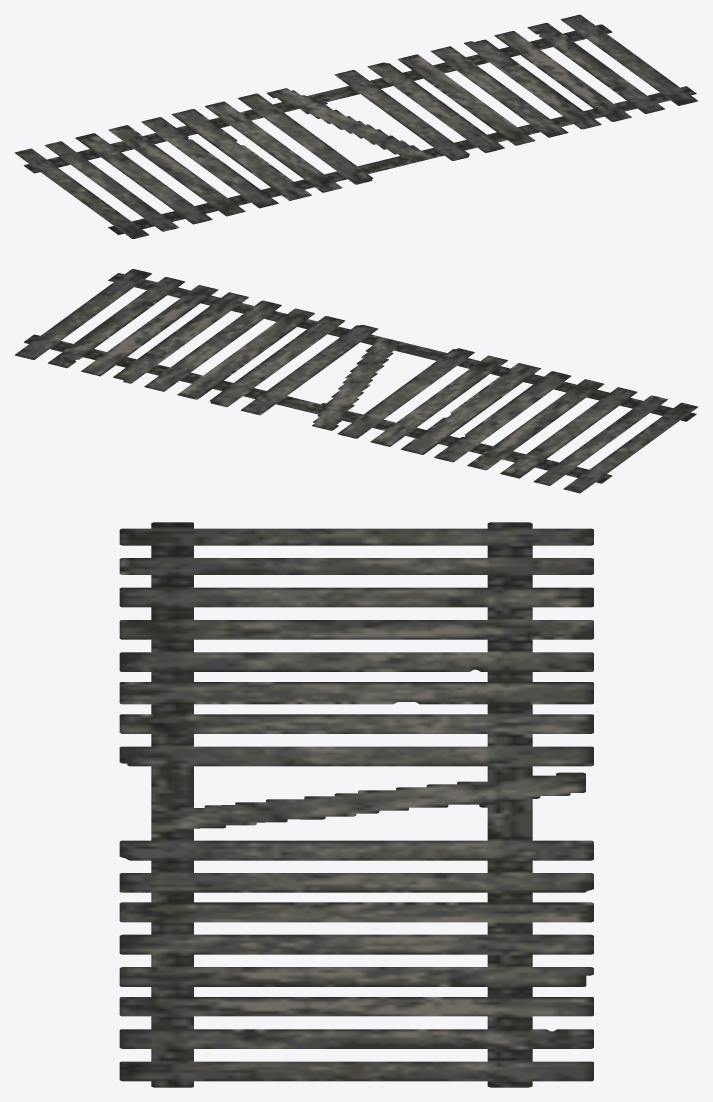
The model's file is SM_EC_Fence_Card_03.fbx.
The picture shows the model from 3 angles, top to bottom: view 1: azimuth 30°, elevation 25°; view 2: azimuth 150°, elevation 25°; view 3: azimuth 270°, elevation 25°; orthographic projection. The views are drawn at different scales.
Parts seen in each view (by area): view 1: SM_EC_Fence_Card_03; view 2: SM_EC_Fence_Card_03; view 3: SM_EC_Fence_Card_03.
Boxes of the visible parts, left/top/right/bottom form: SM_EC_Fence_Card_03: left=15, top=14, right=697, bottom=238; SM_EC_Fence_Card_03: left=15, top=269, right=697, bottom=493; SM_EC_Fence_Card_03: left=119, top=522, right=593, bottom=1087.
Bounding box in the file's own units: 3 × 1.07 × 0.
